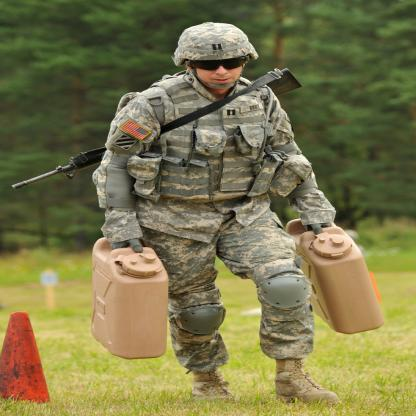Helmet: (174, 24, 254, 86)
